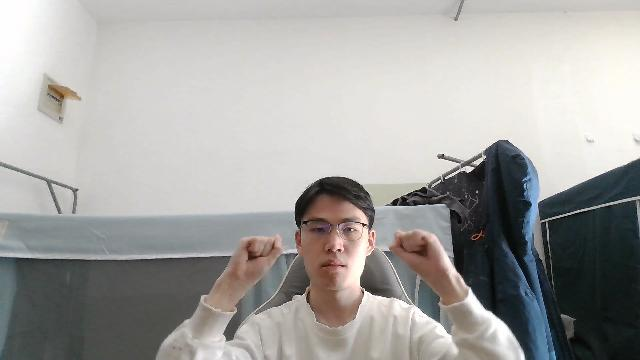ten: (384, 228, 462, 292), (217, 233, 287, 294)
